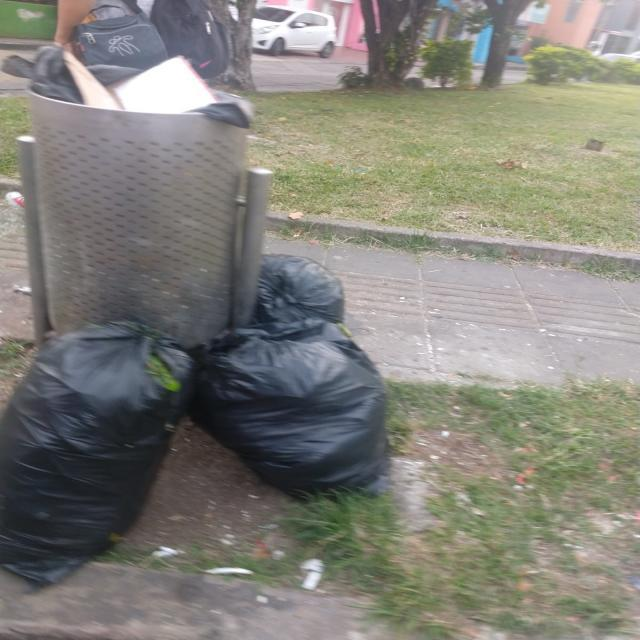Trashbag: (6, 312, 190, 582), (196, 320, 397, 498), (253, 250, 352, 324)
